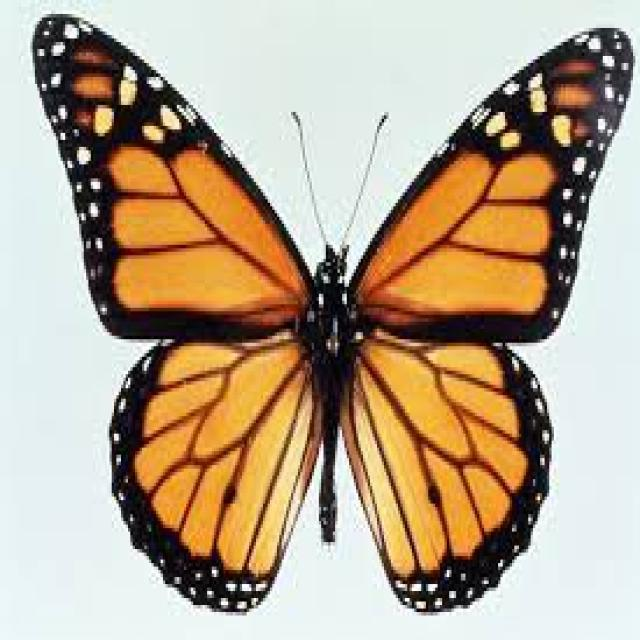butterfly: (38, 1, 592, 601)
